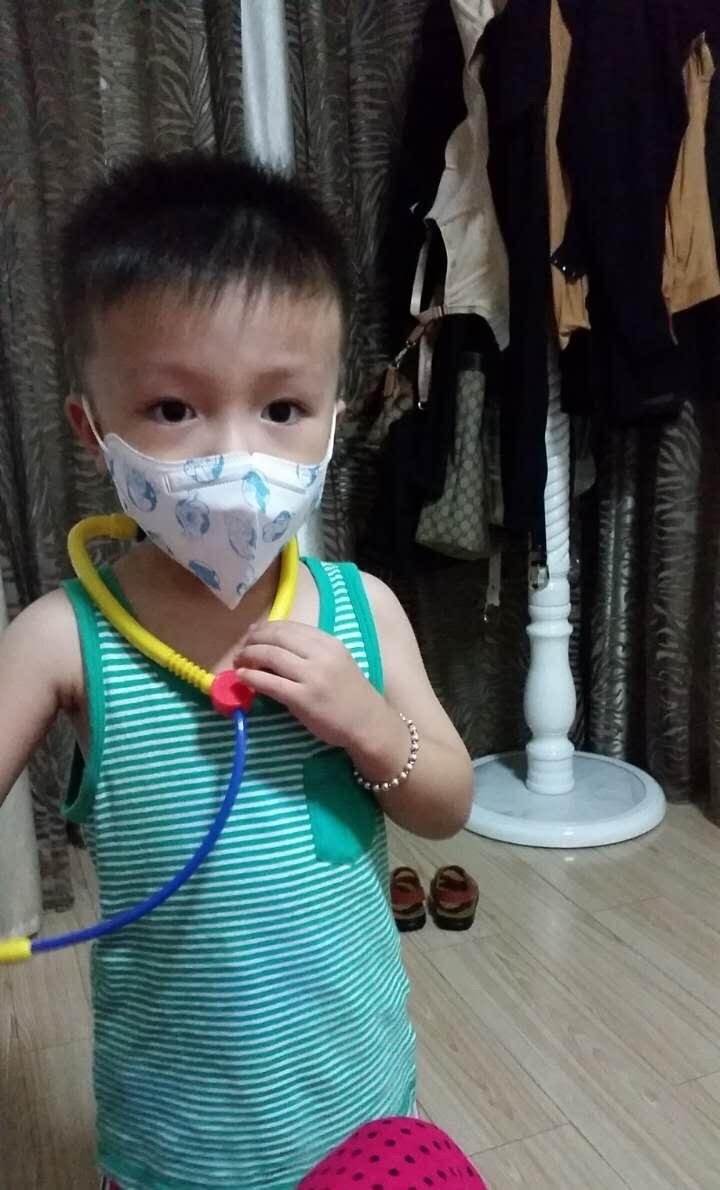OK: (96, 353, 327, 584)
